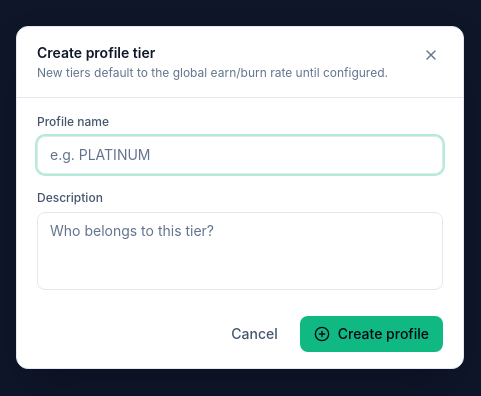
Test case: CreateProfileModal › clears validation error on successful submission
Note: First attempt without name
Click the button "Create profile" at coordinates (371, 334), box [300,316,443,352]
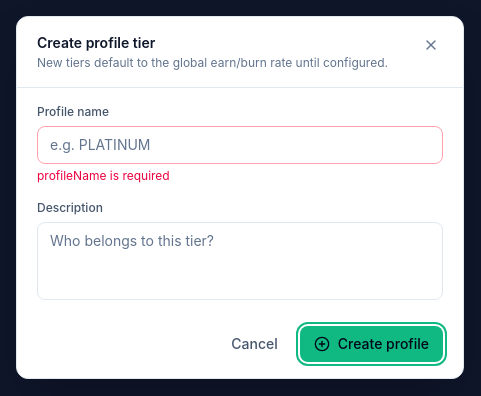
Check: the text "profileName is required" is shown, box [37,168,170,182]
Note: Second attempt with name
Type "Bronze" into the field labelled "Profile name" at coordinates (240, 144), box [37,126,443,164]
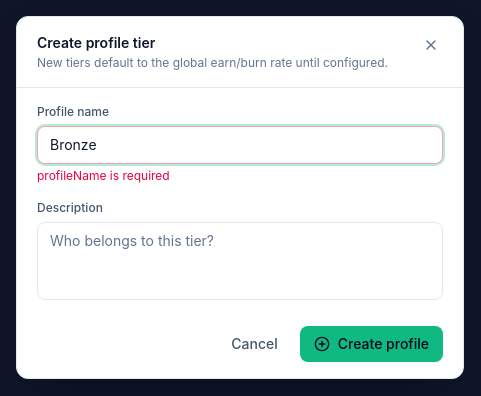
Click the button "Create profile" at coordinates (371, 344), box [300,326,443,362]
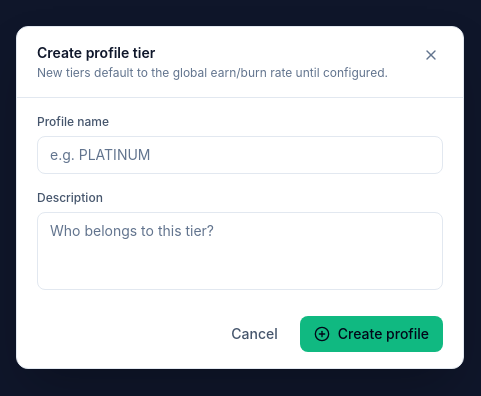
Check: the text "profileName is required" is gone
